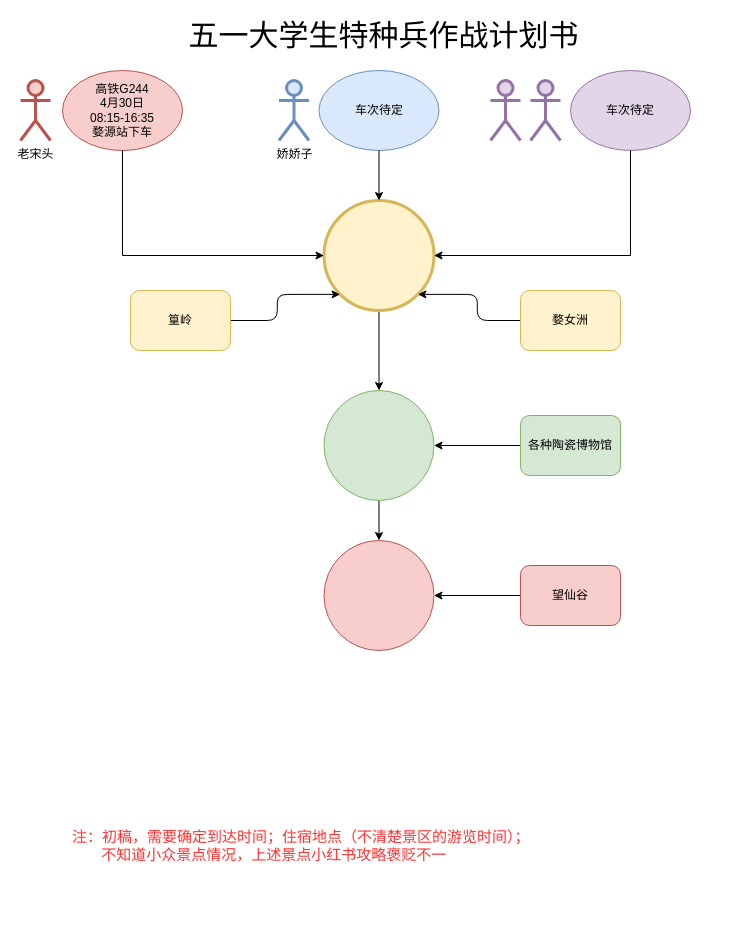
Some shapes in this 747 by 947 pixel diagram are drawn without their labels. The centre of each missing label's shape, as x and y in pixels:
上饶: (378,595)
婺源: (378,255)
景德镇: (378,445)
